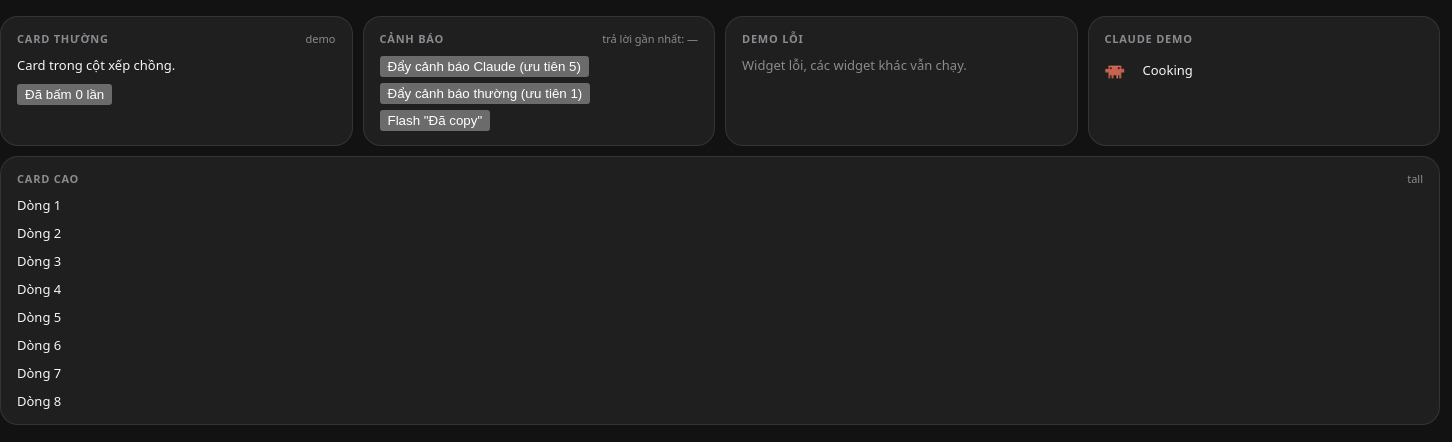
Scenario: Panel › stateful widgets still respond after a sibling crashed
The width and height of the screenshot is (1452, 442).
Click the button "Đã bấm 0 lần" at (65, 94), box [17,84,112,105]
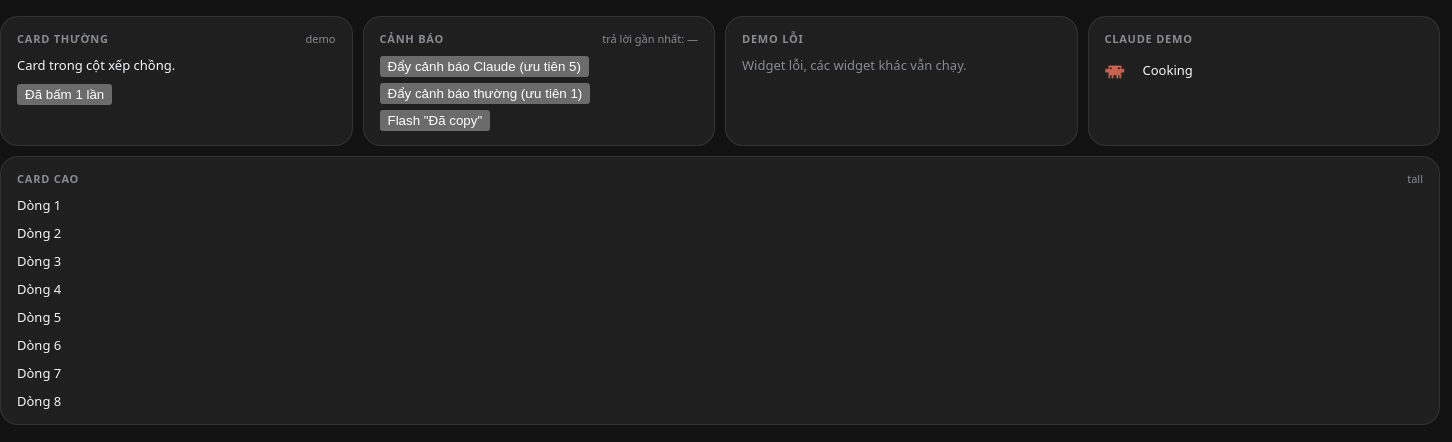
Expected: the button "Đã bấm 1 lần" is shown, [17,84,112,105]
